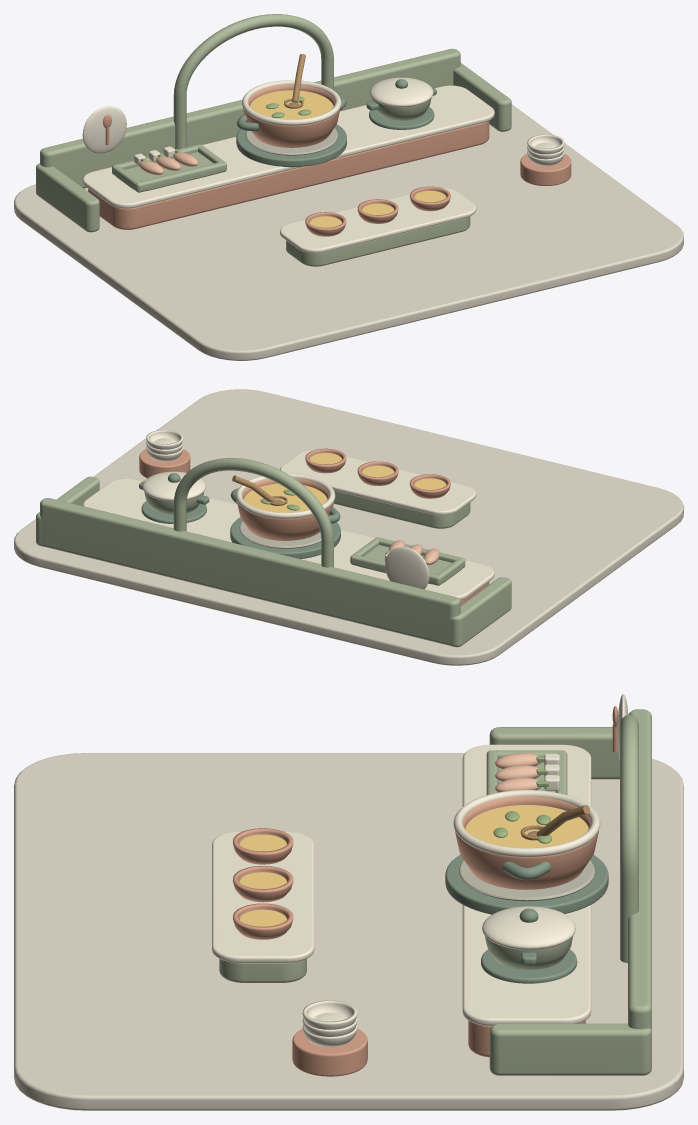
Rendered from community_kitchen.glb.
3 views of the same model, one above another, from view 1: azimuth 30°, elevation 25°; view 2: azimuth 150°, elevation 25°; view 3: azimuth 270°, elevation 25° (orthographic). The views are drawn at different scales.
Parts seen in each view (by area): view 1: Kitchen_cream_plinth, Kitchen_rear_splash_wall, Cooking_counter_cream_top, Shared_low_cooking_counter, Serving_island_top, Kitchen_rear_open_frame, Serving_island_base, Kitchen_left_rear_return, Shared_round_soup_pot, Round_cooker_sage_base, Kitchen_right_rear_return, Visible_soup (+13 smaller); view 2: Kitchen_cream_plinth, Kitchen_rear_splash_wall, Cooking_counter_cream_top, Serving_island_top, Kitchen_rear_open_frame, Kitchen_left_rear_return, Shared_round_soup_pot, Serving_island_base, Kitchen_icon_disc, Visible_soup, Round_cooker_sage_base, Pot_rim (+12 smaller); view 3: Kitchen_cream_plinth, Cooking_counter_cream_top, Kitchen_right_rear_return, Serving_island_top, Kitchen_rear_splash_wall, Shared_round_soup_pot, Kitchen_rear_open_frame, Kitchen_left_rear_return, Visible_soup, Domed_pot_lid, Round_cooker_sage_base, Pot_rim (+14 smaller).
Boxes of the visible parts, x1=… form: Kitchen_cream_plinth: x1=14, y1=104, x2=683, y2=360; Kitchen_rear_splash_wall: x1=40, y1=48, x2=460, y2=188; Cooking_counter_cream_top: x1=82, y1=85, x2=494, y2=208; Shared_low_cooking_counter: x1=88, y1=121, x2=489, y2=229; Serving_island_top: x1=280, y1=187, x2=476, y2=253; Kitchen_rear_open_frame: x1=173, y1=14, x2=333, y2=149; Serving_island_base: x1=286, y1=216, x2=470, y2=266; Kitchen_left_rear_return: x1=36, y1=163, x2=99, y2=232; Shared_round_soup_pot: x1=243, y1=84, x2=340, y2=147; Round_cooker_sage_base: x1=236, y1=124, x2=346, y2=167; Kitchen_right_rear_return: x1=453, y1=63, x2=511, y2=131; Visible_soup: x1=250, y1=90, x2=333, y2=119; Kitchen_cream_plinth: x1=14, y1=389, x2=683, y2=665; Kitchen_rear_splash_wall: x1=40, y1=498, x2=460, y2=645; Cooking_counter_cream_top: x1=82, y1=478, x2=494, y2=600; Serving_island_top: x1=280, y1=450, x2=476, y2=515; Kitchen_rear_open_frame: x1=173, y1=458, x2=333, y2=567; Kitchen_left_rear_return: x1=450, y1=577, x2=511, y2=647; Shared_round_soup_pot: x1=237, y1=478, x2=334, y2=540; Serving_island_base: x1=334, y1=490, x2=470, y2=528; Kitchen_icon_disc: x1=385, y1=547, x2=429, y2=589; Visible_soup: x1=243, y1=483, x2=327, y2=512; Round_cooker_sage_base: x1=230, y1=517, x2=340, y2=558; Pot_rim: x1=235, y1=473, x2=335, y2=518; Kitchen_cream_plinth: x1=14, y1=753, x2=683, y2=1110; Cooking_counter_cream_top: x1=462, y1=744, x2=591, y2=1025; Kitchen_right_rear_return: x1=489, y1=1023, x2=651, y2=1075; Serving_island_top: x1=212, y1=831, x2=314, y2=962; Kitchen_rear_splash_wall: x1=628, y1=709, x2=651, y2=1029; Shared_round_soup_pot: x1=455, y1=796, x2=598, y2=889; Kitchen_rear_open_frame: x1=620, y1=715, x2=638, y2=962; Kitchen_left_rear_return: x1=489, y1=727, x2=619, y2=779; Visible_soup: x1=465, y1=805, x2=588, y2=847; Domed_pot_lid: x1=482, y1=906, x2=575, y2=949; Round_cooker_sage_base: x1=445, y1=854, x2=608, y2=914; Pot_rim: x1=453, y1=790, x2=600, y2=856.
Size of the model in its own units: 7.8 by 2.19 by 6.4.
